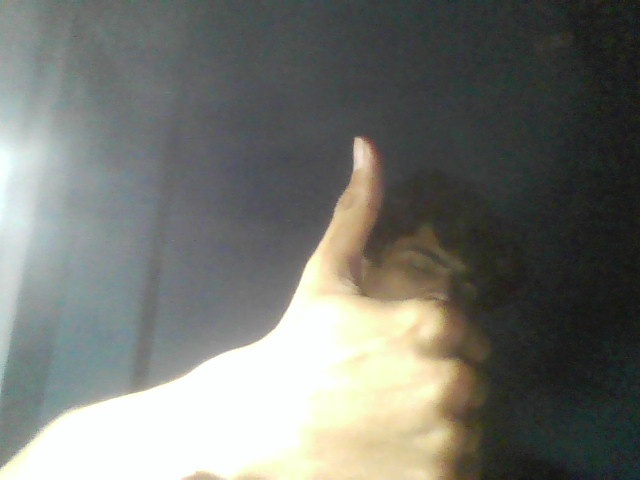ThumbsUp: (260, 133, 490, 480)
